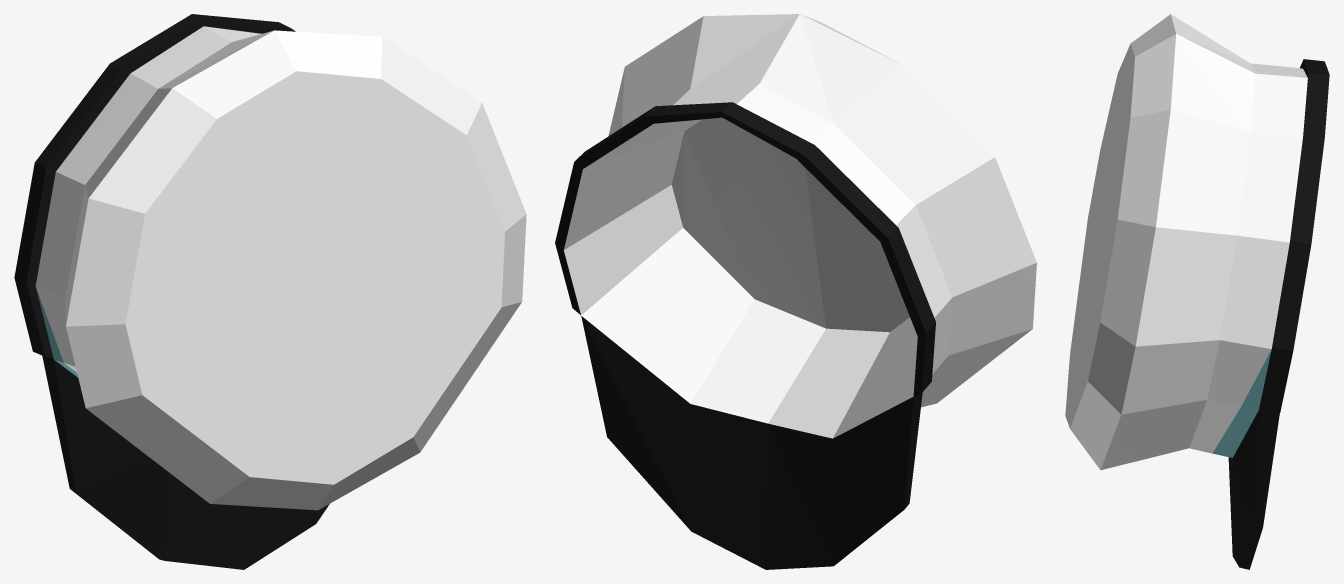
The model's file is SailorHat.glb.
The picture shows the model from 3 angles, left to right: view 1: azimuth 30°, elevation 25°; view 2: azimuth 150°, elevation 25°; view 3: azimuth 270°, elevation 25°; orthographic projection. The views are drawn at different scales.
Visible parts, largest first — view 1: SailorHat; view 2: SailorHat; view 3: SailorHat.
Boxes of the visible parts, x1,y1,x2,y2 form: SailorHat: [14, 14, 526, 569]; SailorHat: [555, 14, 1036, 569]; SailorHat: [1065, 14, 1329, 569].
Size of the model in its own units: 0.2321 by 0.2719 by 0.1241.
Materials: 1 (1 with a texture image).
